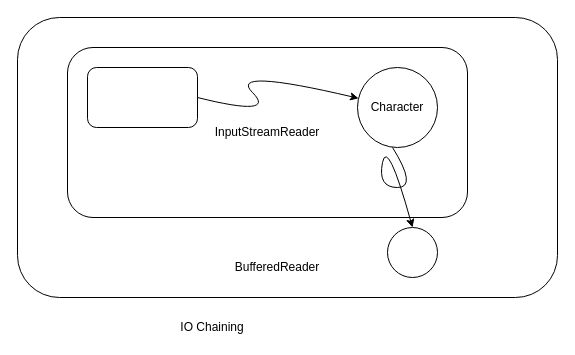
The diagram is 575 pixels wide and 355 high, and some of its shapes have lost their labels. The shapes that lost their labels are listed below. From the top down, each one's centre as x and y in pixels, then its label:
the point at 142,97: InputStream
the point at 412,252: String
